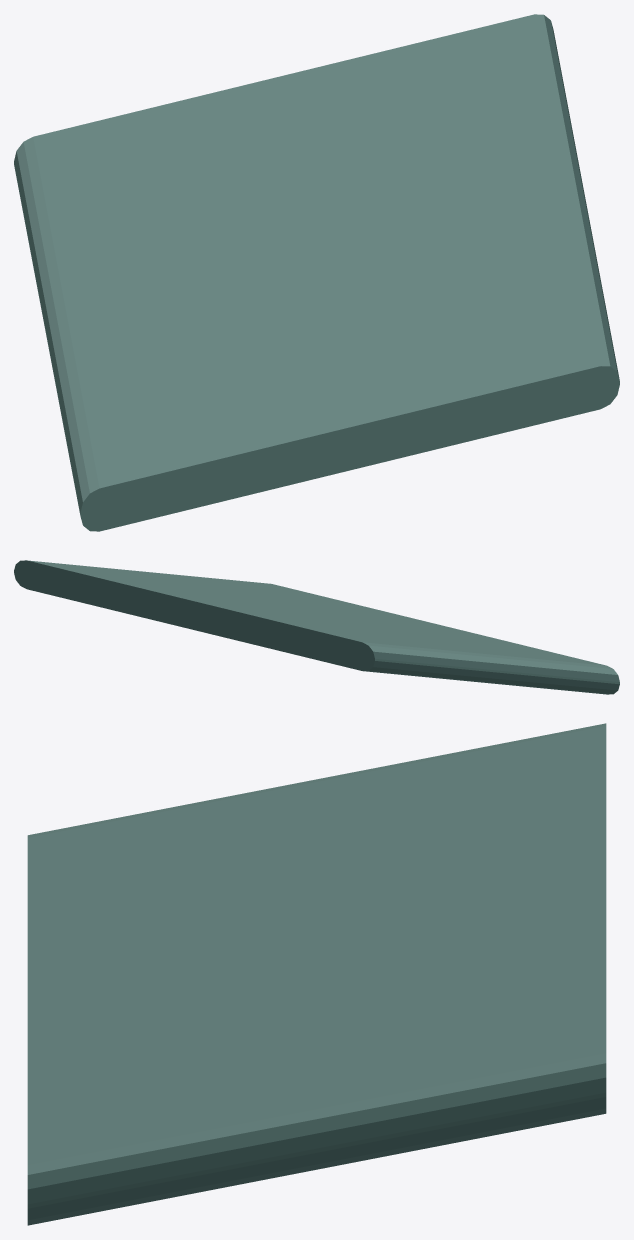
Rendered from Spring_PadOff.gltf.
3 renders of one model, top to bottom at view 1: azimuth 30°, elevation 25°; view 2: azimuth 150°, elevation 25°; view 3: azimuth 270°, elevation 25°, orthographic. The views are drawn at different scales.
Visible parts, largest first — view 1: Spring_PadOff_baked; view 2: Spring_PadOff_baked; view 3: Spring_PadOff_baked.
Part boxes in pixels (left/top/right/bottom): Spring_PadOff_baked: left=14, top=14, right=619, bottom=531; Spring_PadOff_baked: left=14, top=560, right=619, bottom=694; Spring_PadOff_baked: left=27, top=723, right=606, bottom=1225.
Bounding box in the file's own units: 0.92 × 0.255 × 0.5.
